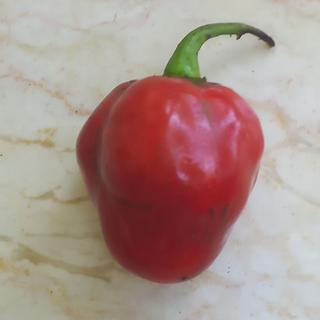Grade-A: (74, 72, 268, 287)
